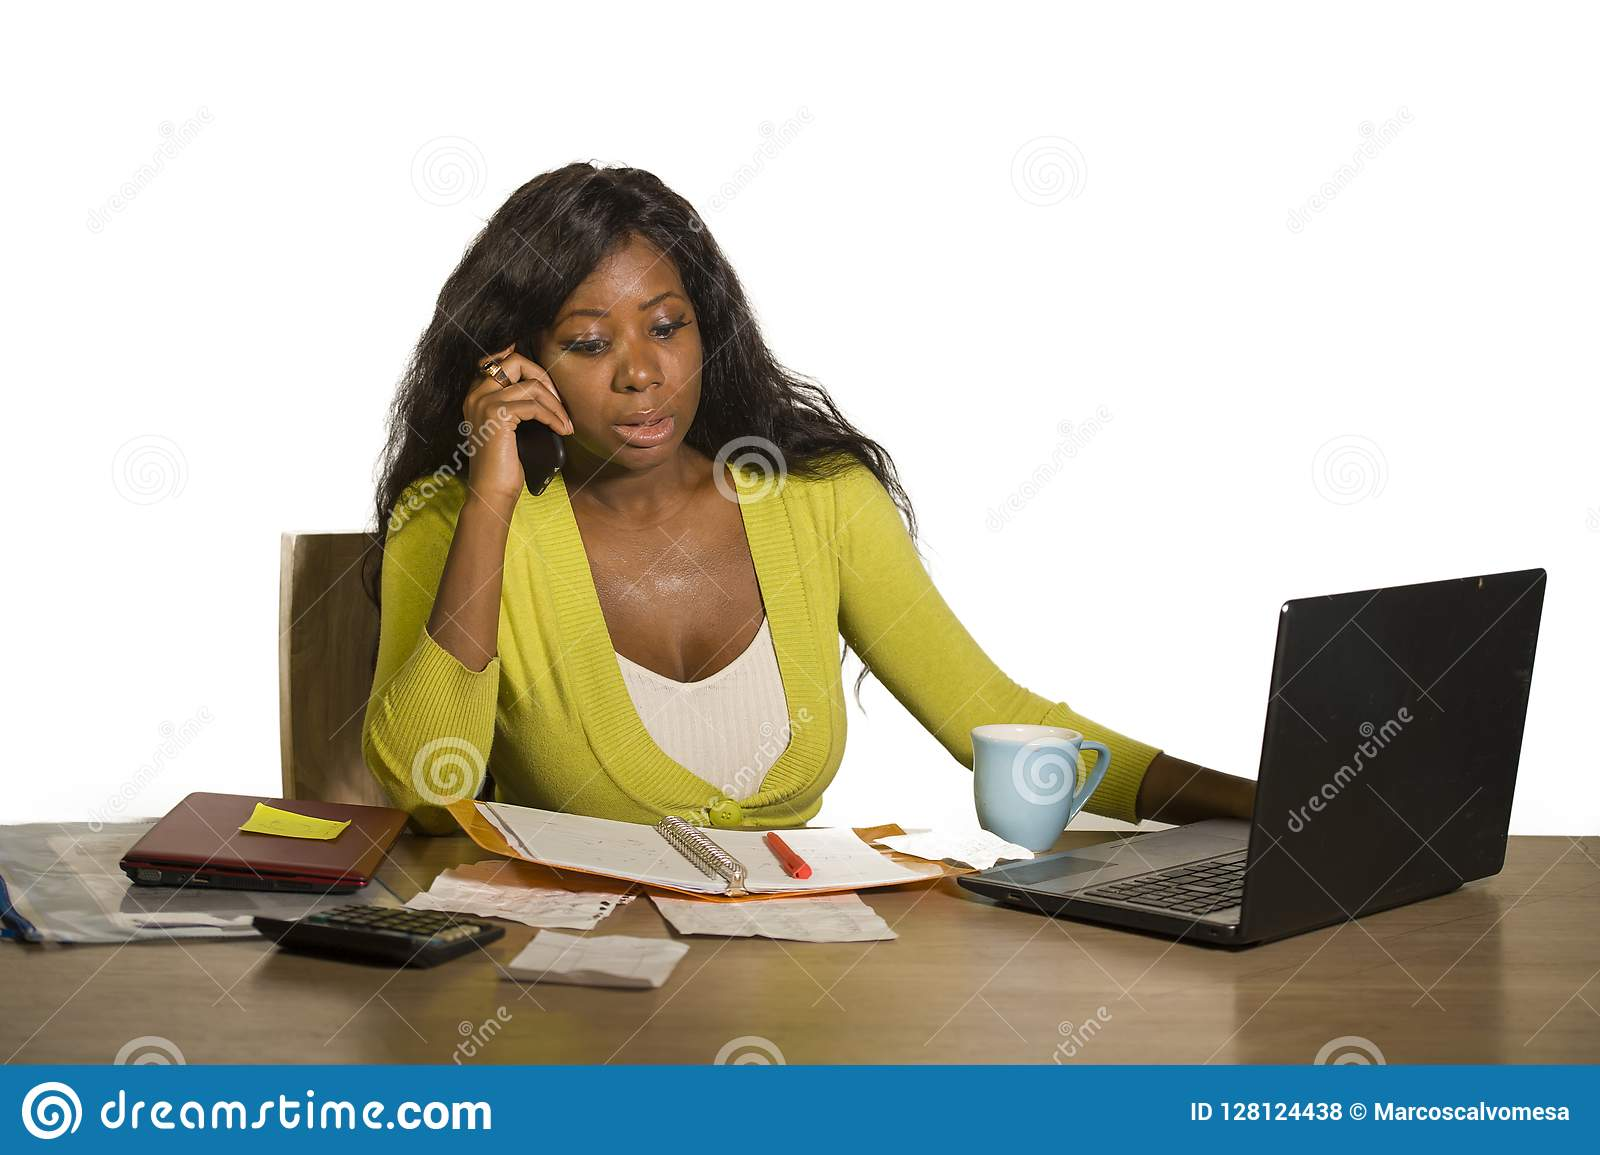phone: (502, 332, 571, 500)
talk: (463, 274, 704, 533)
